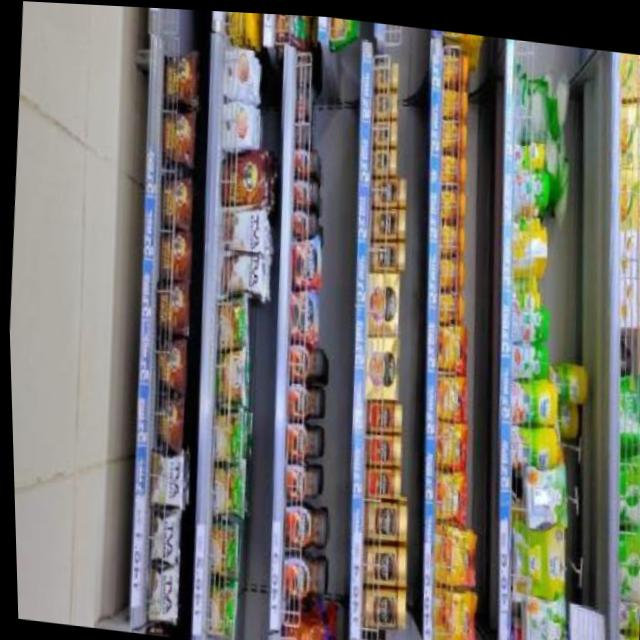Coffee: (428, 520, 473, 580), (425, 583, 472, 640), (277, 500, 323, 549), (355, 582, 402, 626), (276, 549, 320, 596), (358, 496, 404, 540), (357, 539, 403, 581), (287, 233, 319, 284), (285, 287, 315, 339), (430, 467, 462, 514), (279, 459, 314, 499), (434, 320, 465, 365), (433, 369, 463, 415), (431, 421, 463, 464), (280, 418, 315, 457), (283, 378, 317, 417), (364, 203, 404, 236), (283, 342, 317, 377), (364, 236, 402, 267), (366, 173, 405, 203), (437, 217, 464, 252), (434, 286, 461, 319), (439, 113, 466, 146), (437, 186, 464, 216), (371, 57, 398, 87), (439, 149, 465, 179), (440, 82, 466, 112), (442, 47, 466, 79), (369, 114, 396, 142), (288, 208, 314, 237), (367, 143, 394, 170), (437, 255, 462, 284), (292, 144, 316, 174), (290, 174, 314, 203), (370, 88, 395, 113), (293, 51, 310, 83), (291, 117, 308, 143), (293, 85, 308, 114)
